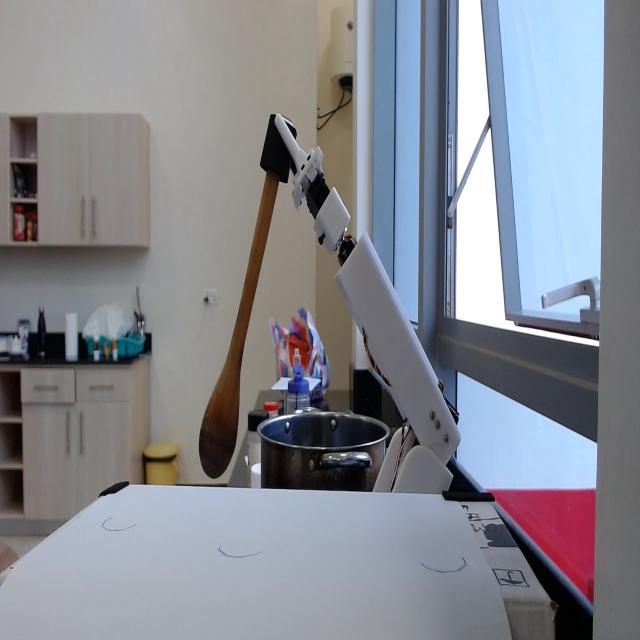cooking_pot: (258, 409, 390, 490)
spatula: (184, 110, 298, 478)
